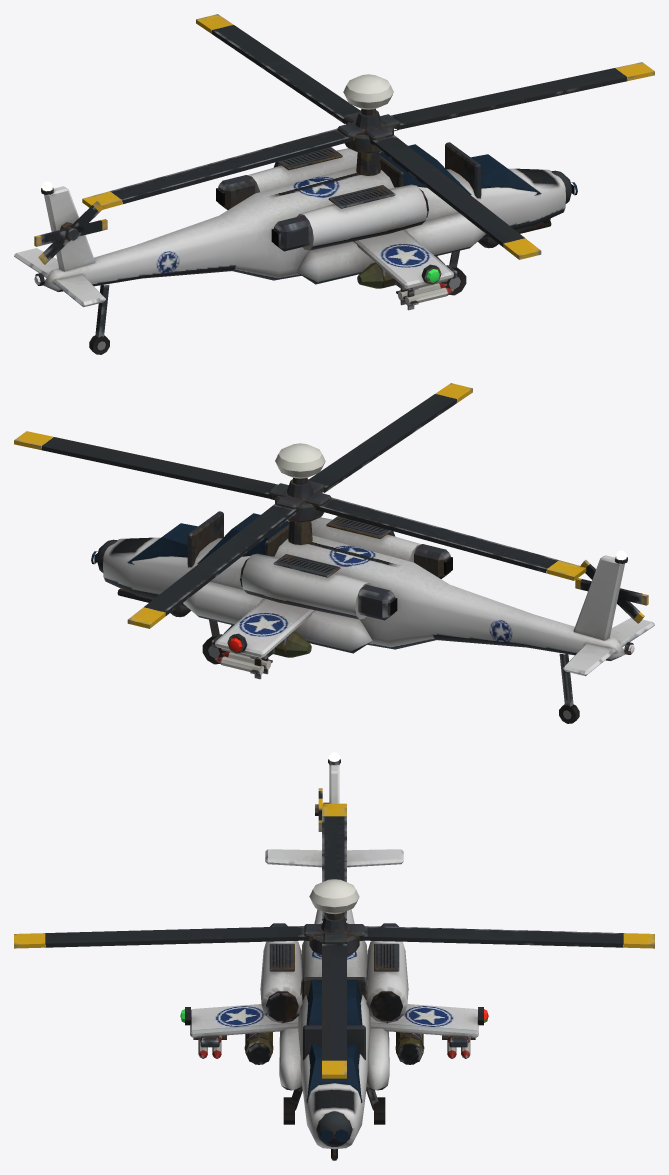
The model's file is heli.allies.glb.
3 renders of one model, top to bottom at view 1: azimuth 30°, elevation 25°; view 2: azimuth 150°, elevation 25°; view 3: azimuth 270°, elevation 25°, orthographic.
Visible parts, largest first — view 1: root_mesh, rotor_mesh, trotor_mesh; view 2: root_mesh, rotor_mesh, trotor_mesh; view 3: root_mesh, rotor_mesh.
Part boxes in pixels (x1,y1,x2,y2): root_mesh: [14, 142, 577, 354]; rotor_mesh: [82, 14, 654, 259]; trotor_mesh: [34, 201, 107, 264]; root_mesh: [91, 511, 654, 723]; rotor_mesh: [14, 383, 586, 628]; trotor_mesh: [575, 560, 648, 623]; root_mesh: [180, 752, 488, 1160]; rotor_mesh: [14, 803, 654, 1078].
Bounding box in the file's own units: 1.13 × 0.3718 × 1.02.
2 materials, 1 textured.
